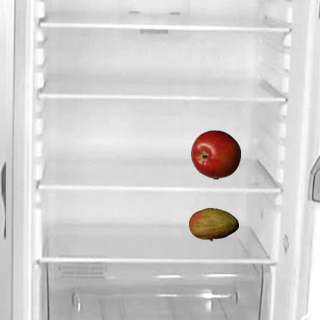Apple Braeburn: (190, 129, 240, 179)
Papaya: (188, 199, 238, 249)
